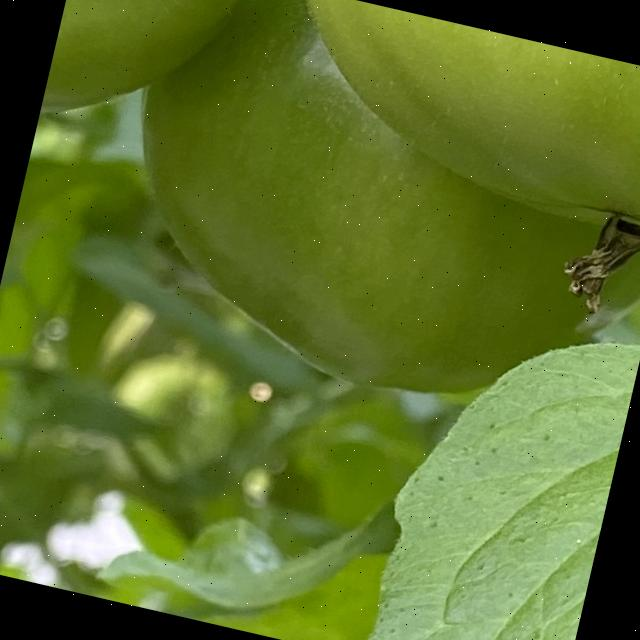tomato: (3, 0, 640, 415)
